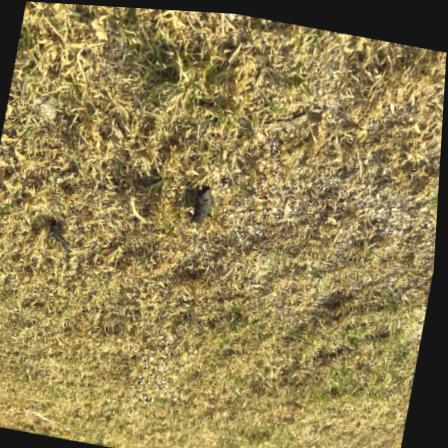dog-poop: (188, 178, 228, 228), (48, 211, 80, 254)
